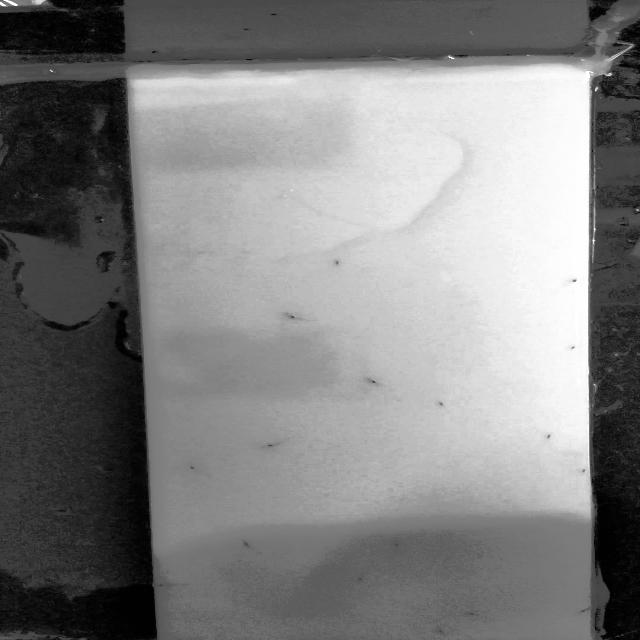shrimp: (153, 576, 200, 596), (309, 255, 358, 274), (226, 532, 268, 553), (530, 426, 568, 448), (250, 436, 294, 453), (274, 306, 310, 326), (556, 598, 590, 618), (423, 396, 456, 415), (380, 536, 412, 555), (180, 459, 208, 478), (354, 373, 385, 390), (451, 608, 484, 623), (348, 570, 380, 585), (428, 624, 454, 640)
